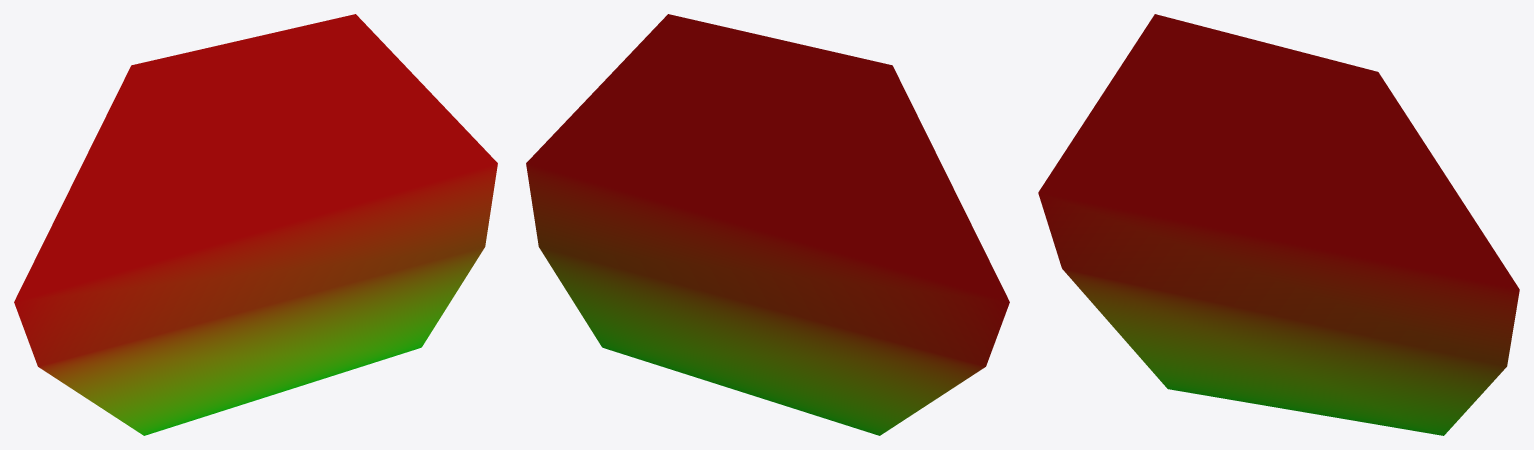
Rendered from Butterfly Weed_LOD4_Var1.fbx.
The picture shows the model from 3 angles, left to right: view 1: azimuth 30°, elevation 25°; view 2: azimuth 150°, elevation 25°; view 3: azimuth 330°, elevation 25°; orthographic projection.
Visible parts, largest first — view 1: _wsvj_Var1_LOD4; view 2: _wsvj_Var1_LOD4; view 3: _wsvj_Var1_LOD4.
Part boxes in pixels (<box>): _wsvj_Var1_LOD4: <box>14,14,497,435</box>; _wsvj_Var1_LOD4: <box>526,14,1009,435</box>; _wsvj_Var1_LOD4: <box>1038,14,1519,435</box>.
Size of the model in its own units: 115 by 84.94 by 5.08e-06.
